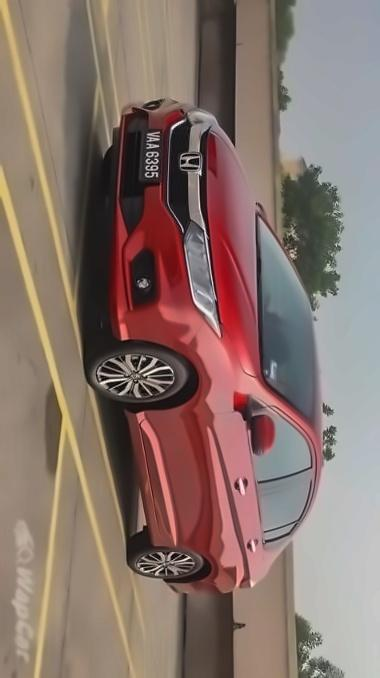Car hood: (201, 119, 266, 379)
Fender - -F-L-: (126, 315, 272, 423)
Fender - -R-L-: (144, 546, 264, 581)
Front bumper: (105, 93, 189, 360)
Headlight - -L-: (176, 213, 225, 342)
Headlight - -R-: (174, 101, 228, 139)
Passenger-s door - -F-L-: (141, 421, 321, 496)
Passenger-s door - -R-L-: (145, 491, 322, 553)
Rear bumper: (153, 573, 221, 607)
Rear light - -L-: (235, 575, 271, 598)
Side bumper - -L-: (121, 405, 167, 551)
Side mirror - -L-: (235, 396, 281, 463)
